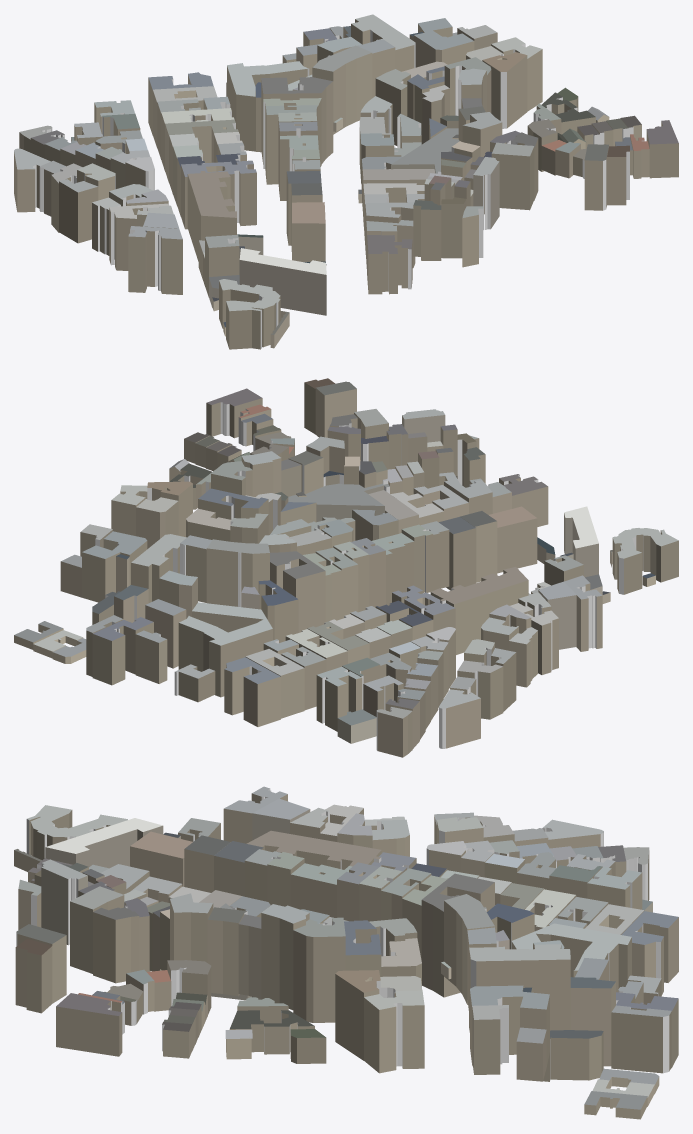
The picture shows the model from 3 angles, top to bottom: view 1: azimuth 30°, elevation 25°; view 2: azimuth 150°, elevation 25°; view 3: azimuth 270°, elevation 25°; orthographic projection. The views are drawn at different scales.
Parts seen in each view (by area): view 1: tuile; view 2: tuile; view 3: tuile.
Part boxes in pixels (x1=…): tuile: x1=14, y1=14, x2=678, y2=349; tuile: x1=14, y1=378, x2=678, y2=757; tuile: x1=14, y1=786, x2=678, y2=1119.
Bounding box in the file's own units: 268 × 71.2 × 267.
